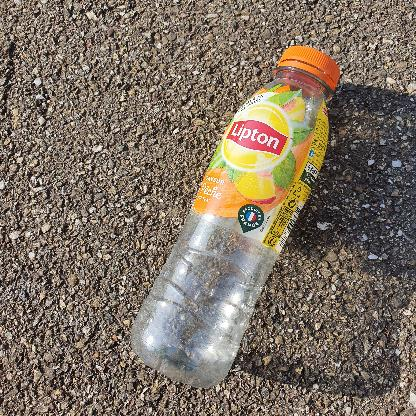Plastic Bottle: (130, 45, 340, 389)
